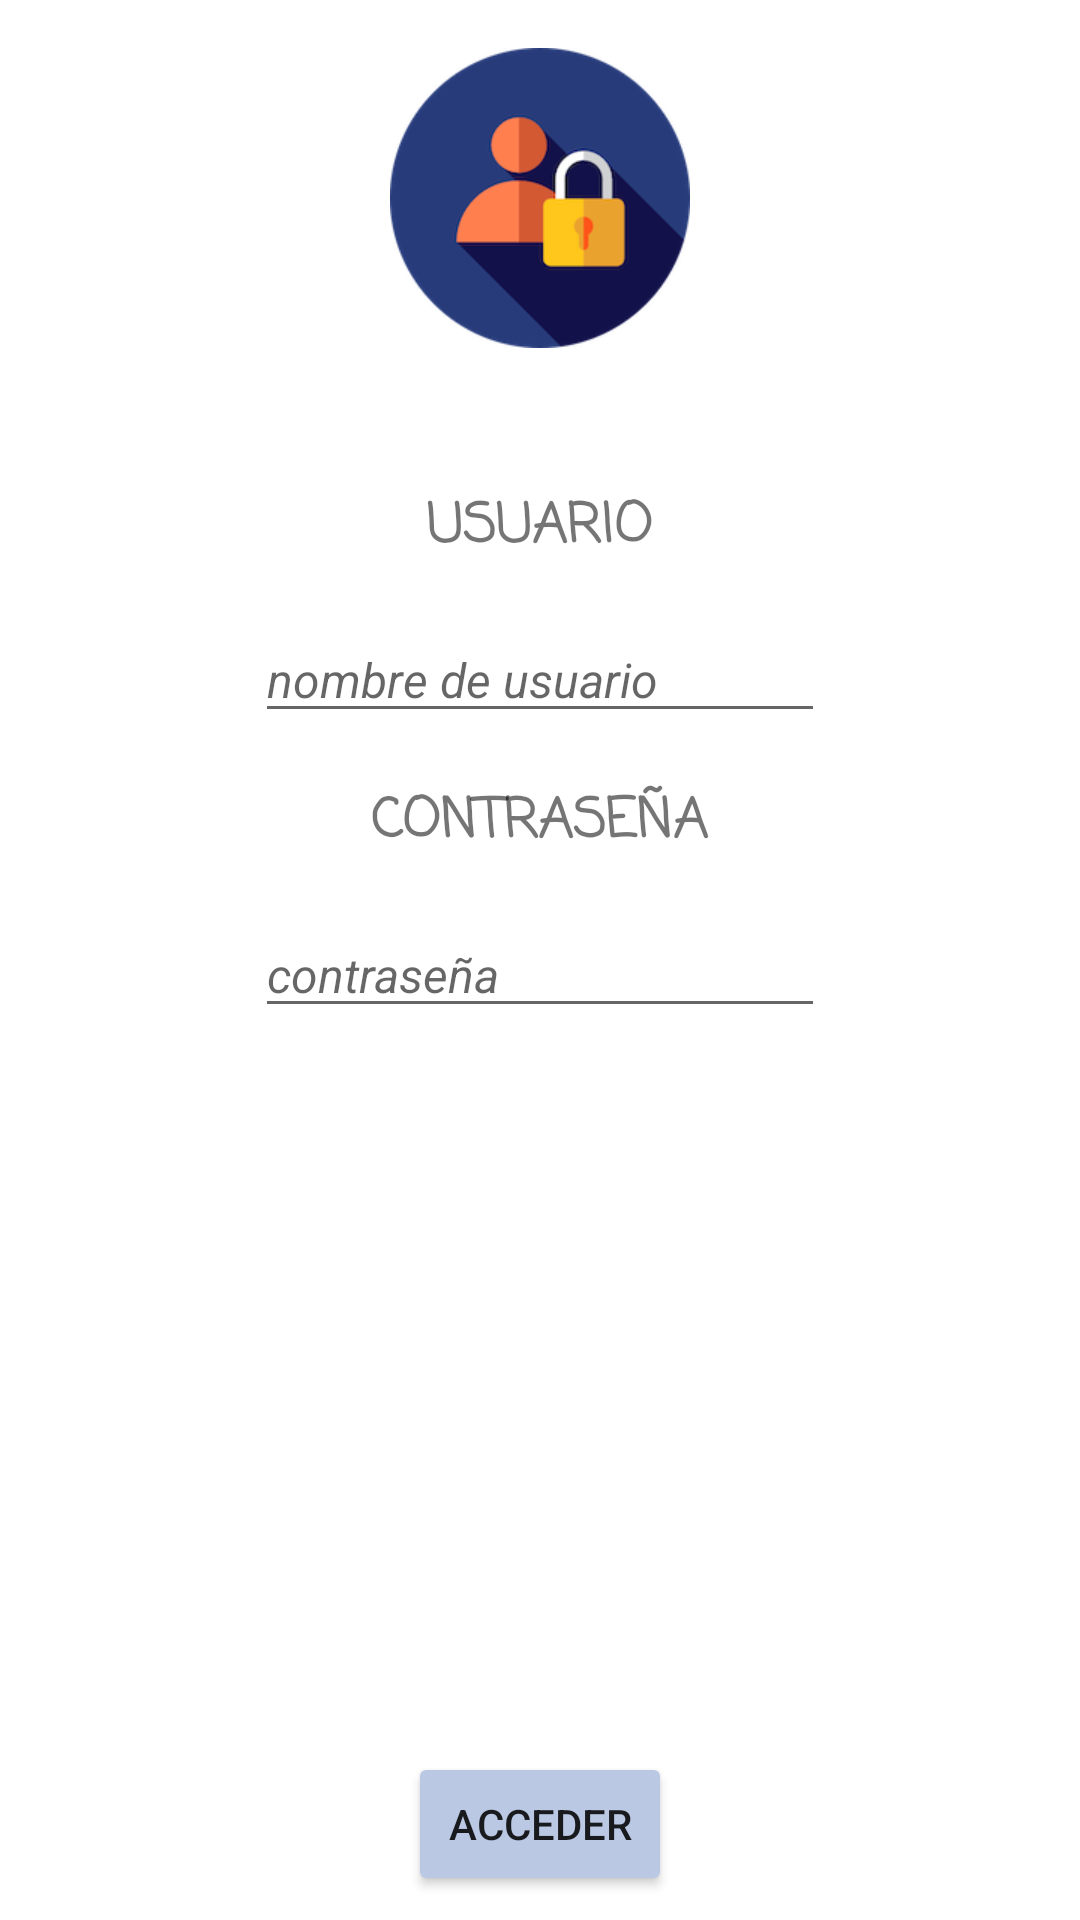

Icon click points for this 1080w x 1920h phone screenshot, format (x=x, y=y):
loguearse: (x=540, y=198)
